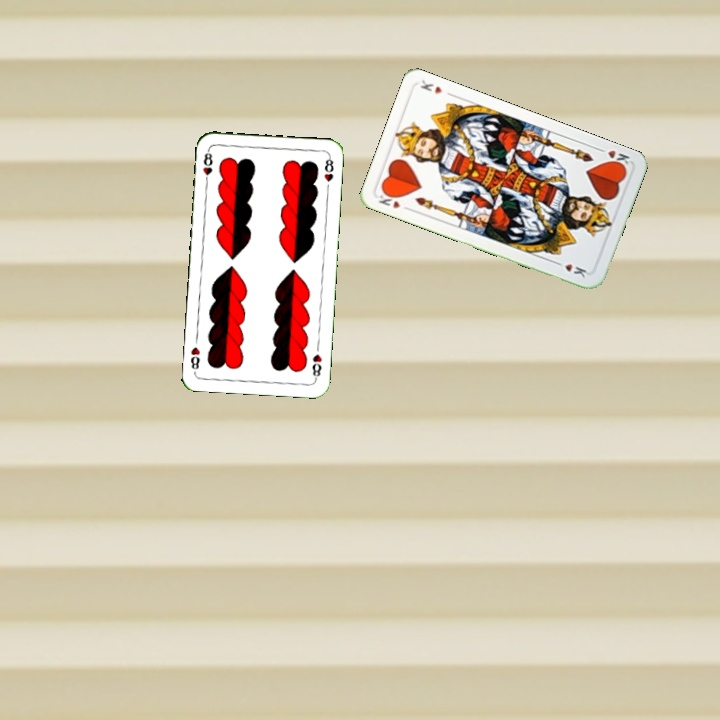H8: (199, 146, 215, 187), (308, 350, 324, 382)
HK: (593, 144, 633, 171), (374, 191, 413, 213)
